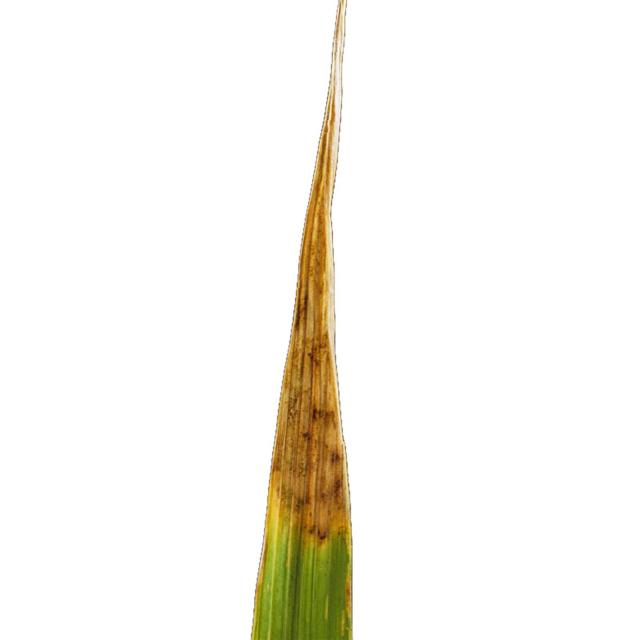Leaf scald: (232, 0, 506, 640)
